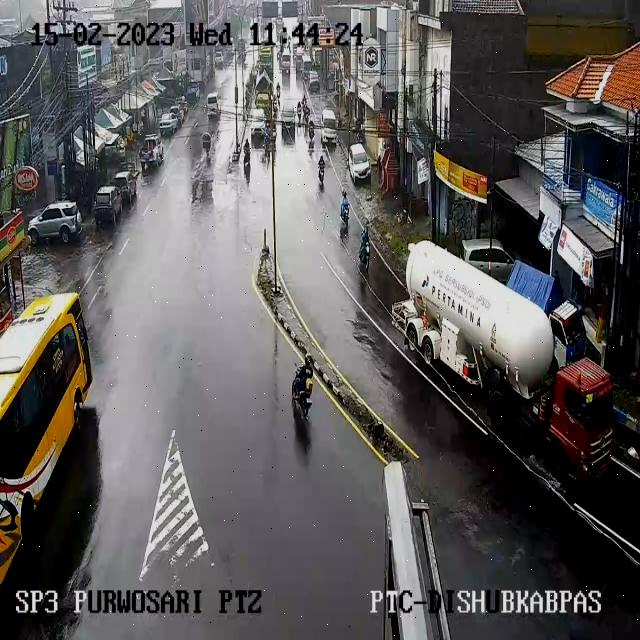Bus: (0, 286, 95, 574)
Car: (459, 225, 515, 279), (27, 200, 82, 244), (92, 186, 124, 226), (111, 170, 139, 203), (347, 143, 370, 182), (139, 134, 164, 168), (248, 108, 268, 140), (321, 108, 337, 140), (159, 112, 179, 136), (280, 105, 296, 132), (206, 91, 220, 118), (169, 105, 185, 125), (305, 70, 319, 92), (301, 54, 312, 76), (280, 52, 292, 72), (295, 46, 305, 64), (214, 50, 224, 67)
Motorbike: (292, 356, 316, 417), (359, 227, 370, 266), (340, 192, 350, 221), (202, 133, 211, 155), (318, 157, 325, 183), (243, 142, 250, 164), (308, 120, 315, 141), (296, 101, 302, 124), (277, 80, 282, 100), (273, 95, 279, 110), (305, 105, 310, 120)
Truck: (405, 239, 627, 467), (512, 258, 588, 358), (506, 263, 572, 375), (256, 72, 272, 116), (256, 48, 276, 72)
